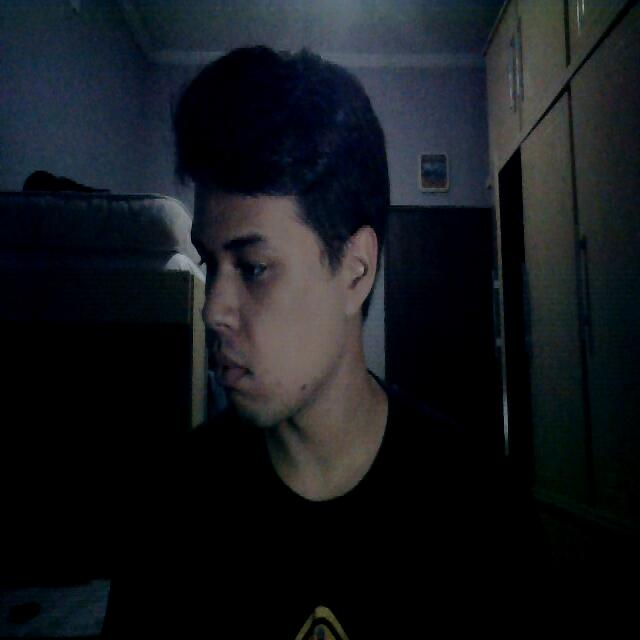acordado: (182, 140, 384, 445)
